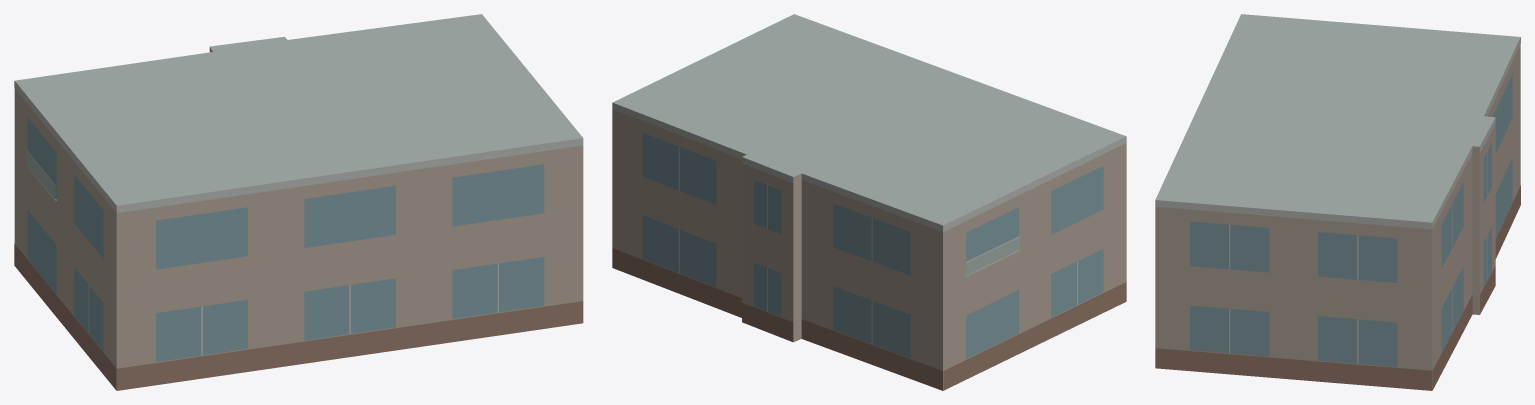
Rendered from survey-upis-32623884.glb.
3 renders of one model, left to right at view 1: azimuth 30°, elevation 25°; view 2: azimuth 150°, elevation 25°; view 3: azimuth 270°, elevation 25°, orthographic. The views are drawn at different scales.
Visible parts, largest first — view 1: survey-upis-32623884.tmp; view 2: survey-upis-32623884.tmp; view 3: survey-upis-32623884.tmp.
Part boxes in pixels (bbox=[...]): survey-upis-32623884.tmp: bbox=[14, 14, 583, 390]; survey-upis-32623884.tmp: bbox=[612, 14, 1126, 390]; survey-upis-32623884.tmp: bbox=[1155, 14, 1520, 390].
Size of the model in its own units: 16.23 by 6.1 by 12.02.
